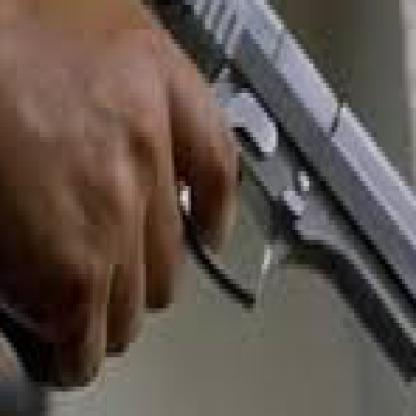gun: (0, 0, 414, 402)
